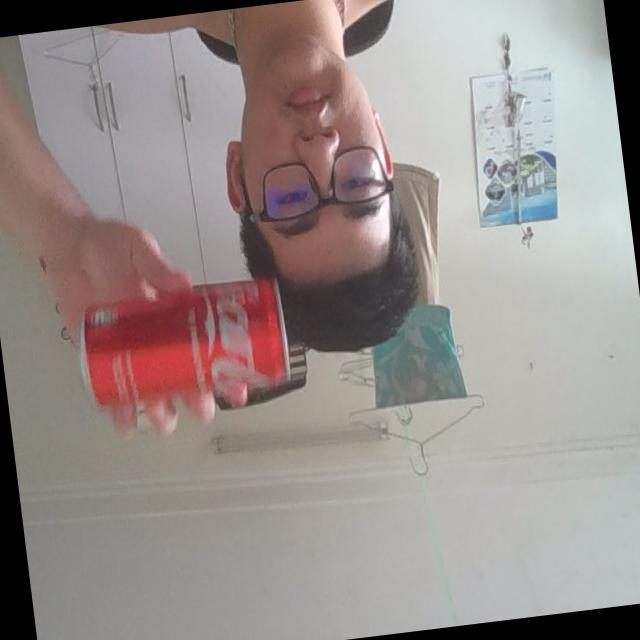Coca Cola: (73, 273, 294, 416)
